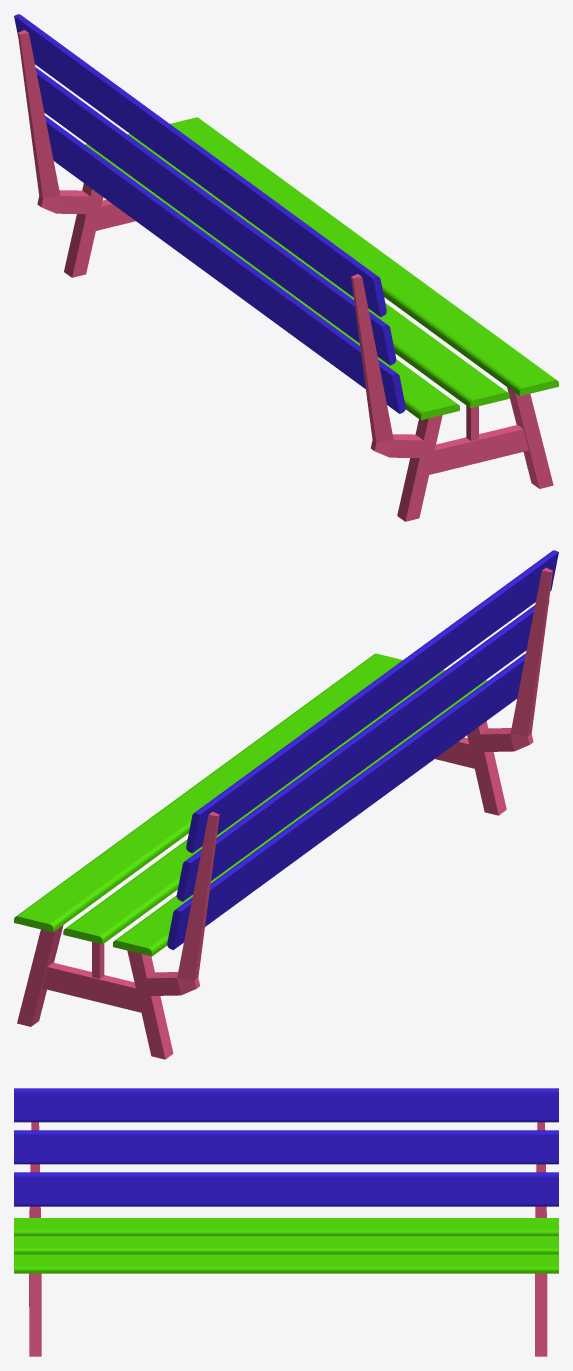
File: PatioProp_Banco.fbx
3 renders of one model, top to bottom at view 1: azimuth 30°, elevation 25°; view 2: azimuth 150°, elevation 25°; view 3: azimuth 270°, elevation 25°, orthographic. The views are drawn at different scales.
Parts seen in each view (by area): view 1: encosto, banco, Pes; view 2: encosto, banco, Pes; view 3: encosto, banco, Pes.
Boxes of the visible parts, <box> form: encosto: <box>14,14,405,413</box>; banco: <box>85,117,558,420</box>; Pes: <box>17,30,553,521</box>; encosto: <box>167,550,558,950</box>; banco: <box>14,653,487,956</box>; Pes: <box>17,567,552,1059</box>; encosto: <box>14,1088,558,1206</box>; banco: <box>14,1218,558,1273</box>; Pes: <box>29,1122,547,1356</box>.
Bounding box in the file's own units: 191 × 241 × 600.
